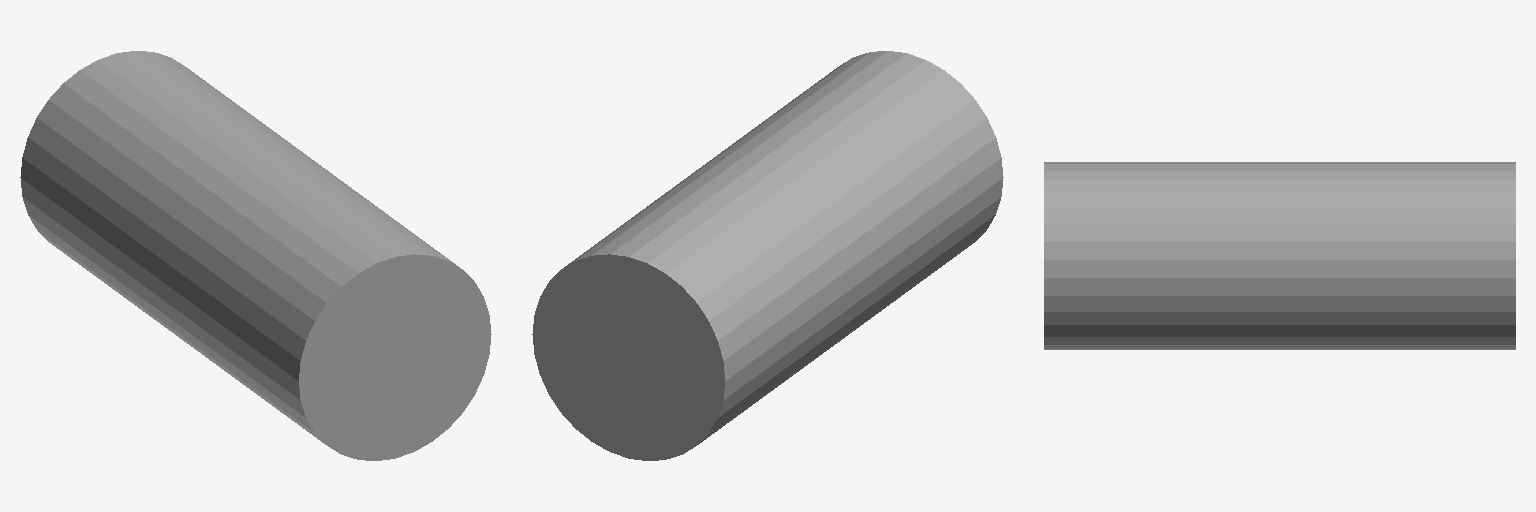
URDF robot description (ur5):
<?xml version="1.0" encoding="utf-8"?>
<!-- =================================================================================== -->
<!-- |    This document was autogenerated by xacro from ur5_robot_sensor_pos.urdf.xacro | -->
<!-- |    EDITING THIS FILE BY HAND IS NOT RECOMMENDED                                 | -->
<!-- =================================================================================== -->
<robot name="ur5">
  <gazebo>
    <plugin filename="libgazebo_ros_control.so" name="ros_control">
      <!--robotNamespace>/</robotNamespace-->
      <!--robotSimType>gazebo_ros_control/DefaultRobotHWSim</robotSimType-->
    </plugin>
    <!--
    <plugin name="gazebo_ros_power_monitor_controller" filename="libgazebo_ros_power_monitor.so">
      <alwaysOn>true</alwaysOn>
      <updateRate>1.0</updateRate>
      <timeout>5</timeout>
      <powerStateTopic>power_state</powerStateTopic>
      <powerStateRate>10.0</powerStateRate>
      <fullChargeCapacity>87.78</fullChargeCapacity>     
      <dischargeRate>-474</dischargeRate>
      <chargeRate>525</chargeRate>
      <dischargeVoltage>15.52</dischargeVoltage>
      <chargeVoltage>16.41</chargeVoltage>
    </plugin>
-->
  </gazebo>
  <!-- measured from model -->
  <link name="base_link">
    <visual>
      <origin rpy="0 0 3.14159265359" xyz="0 0 0"/>
      <geometry>
        <mesh filename="package://ur_description/meshes/ur5/visual/base.dae"/>
      </geometry>
      <material name="LightGrey">
        <color rgba="0.7 0.7 0.7 1.0"/>
      </material>
    </visual>
    <collision>
      <origin rpy="0 0 3.14159265359" xyz="0 0 0"/>
      <geometry>
        <mesh filename="package://ur_description/meshes/ur5/collision/base.stl"/>
      </geometry>
    </collision>
    <inertial>
      <mass value="4.0"/>
      <origin rpy="0 0 0" xyz="0.0 0.0 0.0"/>
      <inertia ixx="0.00443333156" ixy="0.0" ixz="0.0" iyy="0.00443333156" iyz="0.0" izz="0.0072"/>
    </inertial>
  </link>
  <joint name="shoulder_pan_joint" type="revolute">
    <parent link="base_link"/>
    <child link="shoulder_link"/>
    <origin rpy="0 0 3.14159265359" xyz="0 0 0.089159"/>
    <axis xyz="0 0 1"/>
    <limit effort="150.0" lower="-6.28318530718" upper="6.28318530718" velocity="3.15"/>
    <dynamics damping="0.0" friction="0.0"/>
  </joint>
  <link name="shoulder_link">
    <visual>
      <origin rpy="0 0 3.14159265359" xyz="0 0 0"/>
      <geometry>
        <mesh filename="package://ur_description/meshes/ur5/visual/shoulder.dae"/>
      </geometry>
      <material name="LightGrey">
        <color rgba="0.7 0.7 0.7 1.0"/>
      </material>
    </visual>
    <collision>
      <origin rpy="0 0 3.14159265359" xyz="0 0 0"/>
      <geometry>
        <mesh filename="package://ur_description/meshes/ur5/collision/shoulder.stl"/>
      </geometry>
    </collision>
    <inertial>
      <mass value="3.7"/>
      <origin rpy="0 0 0" xyz="0.0 0.0 0.0"/>
      <inertia ixx="0.0149723523444" ixy="0.0" ixz="0.0" iyy="0.0149723523444" iyz="0.0" izz="0.01040625"/>
    </inertial>
  </link>
  <joint name="shoulder_lift_joint" type="revolute">
    <parent link="shoulder_link"/>
    <child link="upper_arm_link"/>
    <origin rpy="1.570796327 0 0" xyz="0 0 0"/>
    <axis xyz="0 0 1"/>
    <limit effort="150.0" lower="-6.28318530718" upper="6.28318530718" velocity="3.15"/>
    <dynamics damping="0.0" friction="0.0"/>
  </joint>
  <link name="upper_arm_link">
    <visual>
      <origin rpy="1.57079632679 0 -1.57079632679" xyz="0 0 0.136"/>
      <geometry>
        <mesh filename="package://ur_description/meshes/ur5/visual/upperarm.dae"/>
      </geometry>
      <material name="LightGrey">
        <color rgba="0.7 0.7 0.7 1.0"/>
      </material>
    </visual>
    <collision>
      <origin rpy="1.57079632679 0 -1.57079632679" xyz="0 0 0.136"/>
      <geometry>
        <mesh filename="package://ur_description/meshes/ur5/collision/upperarm.stl"/>
      </geometry>
    </collision>
    <inertial>
      <mass value="8.393"/>
      <origin rpy="0 1.57079632679 0" xyz="-0.2125 0.0 0.136"/>
      <inertia ixx="0.133885781862" ixy="0.0" ixz="0.0" iyy="0.133885781862" iyz="0.0" izz="0.0151074"/>
    </inertial>
  </link>
  <joint name="elbow_joint" type="revolute">
    <parent link="upper_arm_link"/>
    <child link="forearm_link"/>
    <origin rpy="0 0 0" xyz="-0.425 0 0"/>
    <axis xyz="0 0 1"/>
    <limit effort="150.0" lower="-3.14159265359" upper="3.14159265359" velocity="3.15"/>
    <dynamics damping="0.0" friction="0.0"/>
  </joint>
  <link name="forearm_link">
    <visual>
      <origin rpy="1.57079632679 0 -1.57079632679" xyz="0 0 0.0165"/>
      <geometry>
        <mesh filename="package://ur_description/meshes/ur5/visual/forearm.dae"/>
      </geometry>
      <material name="LightGrey">
        <color rgba="0.7 0.7 0.7 1.0"/>
      </material>
    </visual>
    <collision>
      <origin rpy="1.57079632679 0 -1.57079632679" xyz="0 0 0.0165"/>
      <geometry>
        <mesh filename="package://ur_description/meshes/ur5/collision/forearm.stl"/>
      </geometry>
    </collision>
    <inertial>
      <mass value="2.275"/>
      <origin rpy="0 1.57079632679 0" xyz="-0.2125 0.0 0.0165"/>
      <inertia ixx="0.0312167910289" ixy="0.0" ixz="0.0" iyy="0.0312167910289" iyz="0.0" izz="0.004095"/>
    </inertial>
  </link>
  <joint name="wrist_1_joint" type="revolute">
    <parent link="forearm_link"/>
    <child link="wrist_1_link"/>
    <origin rpy="0 0 0" xyz="-0.39225 0 0.10915"/>
    <axis xyz="0 0 1"/>
    <limit effort="28.0" lower="-6.28318530718" upper="6.28318530718" velocity="3.2"/>
    <dynamics damping="0.0" friction="0.0"/>
  </joint>
  <link name="wrist_1_link">
    <visual>
      <origin rpy="1.57079632679 0 0" xyz="0 0 -0.093"/>
      <geometry>
        <mesh filename="package://ur_description/meshes/ur5/visual/wrist1.dae"/>
      </geometry>
      <material name="LightGrey">
        <color rgba="0.7 0.7 0.7 1.0"/>
      </material>
    </visual>
    <collision>
      <origin rpy="1.57079632679 0 0" xyz="0 0 -0.093"/>
      <geometry>
        <mesh filename="package://ur_description/meshes/ur5/collision/wrist1.stl"/>
      </geometry>
    </collision>
    <inertial>
      <mass value="1.219"/>
      <origin rpy="0 0 0" xyz="0.0 0.0 0.0"/>
      <inertia ixx="0.00262426443592" ixy="0.0" ixz="0.0" iyy="0.00262426443592" iyz="0.0" izz="0.0034284375"/>
    </inertial>
  </link>
  <joint name="wrist_2_joint" type="revolute">
    <parent link="wrist_1_link"/>
    <child link="wrist_2_link"/>
    <origin rpy="1.570796327 0 0" xyz="0 -0.09465 -1.9413039509e-11"/>
    <axis xyz="0 0 1"/>
    <limit effort="28.0" lower="-6.28318530718" upper="6.28318530718" velocity="3.2"/>
    <dynamics damping="0.0" friction="0.0"/>
  </joint>
  <link name="wrist_2_link">
    <visual>
      <origin rpy="0 0 0" xyz="0 0 -0.095"/>
      <geometry>
        <mesh filename="package://ur_description/meshes/ur5/visual/wrist2.dae"/>
      </geometry>
      <material name="LightGrey">
        <color rgba="0.7 0.7 0.7 1.0"/>
      </material>
    </visual>
    <collision>
      <origin rpy="0 0 0" xyz="0 0 -0.095"/>
      <geometry>
        <mesh filename="package://ur_description/meshes/ur5/collision/wrist2.stl"/>
      </geometry>
    </collision>
    <inertial>
      <mass value="1.219"/>
      <origin rpy="0 0 0" xyz="0.0 0.0 0.0"/>
      <inertia ixx="0.00178515266177" ixy="0.0" ixz="0.0" iyy="0.00178515266177" iyz="0.0" izz="0.0021942"/>
    </inertial>
  </link>
  <joint name="wrist_3_joint" type="revolute">
    <parent link="wrist_2_link"/>
    <child link="wrist_3_link"/>
    <origin rpy="1.57079632659 3.14159265359 3.14159265359" xyz="0 0.0823 -1.68800121668e-11"/>
    <axis xyz="0 0 1"/>
    <limit effort="28.0" lower="-6.28318530718" upper="6.28318530718" velocity="3.2"/>
    <dynamics damping="0.0" friction="0.0"/>
  </joint>
  <link name="wrist_3_link">
    <visual>
      <origin rpy="1.57079632679 0 0" xyz="0 0 -0.0818"/>
      <geometry>
        <mesh filename="package://ur_description/meshes/ur5/visual/wrist3.dae"/>
      </geometry>
      <material name="LightGrey">
        <color rgba="0.7 0.7 0.7 1.0"/>
      </material>
    </visual>
    <collision>
      <origin rpy="1.57079632679 0 0" xyz="0 0 -0.0823"/>
      <geometry>
        <mesh filename="package://ur_description/meshes/ur5/collision/wrist3.stl"/>
      </geometry>
    </collision>
    <inertial>
      <mass value="0.1879"/>
      <origin rpy="0 0 0" xyz="0.0 0.0 -0.01525"/>
      <inertia ixx="8.06247260834e-05" ixy="0.0" ixz="0.0" iyy="8.06247260834e-05" iyz="0.0" izz="0.0001321171875"/>
    </inertial>
  </link>
  <joint name="ee_fixed_joint" type="fixed">
    <parent link="wrist_3_link"/>
    <child link="ee_link"/>
    <origin rpy="0.0 -1.57079632679 1.57079632679" xyz="0.0 0.0 0.0"/>
  </joint>
  <link name="ee_link">
    <collision>
      <geometry>
        <box size="0.01 0.01 0.01"/>
      </geometry>
      <origin rpy="0 0 0" xyz="-0.01 0 0"/>
    </collision>
  </link>
  <joint name="wrist_3_passive_joint" type="fixed">
    <origin rpy="0 0 0" xyz="0 0 0"/>
    <parent link="wrist_3_link"/>
    <child link="tool0"/>
  </joint>
  <transmission name="shoulder_pan_trans">
    <type>transmission_interface/SimpleTransmission</type>
    <joint name="shoulder_pan_joint">
      <hardwareInterface>hardware_interface/PositionJointInterface</hardwareInterface>
    </joint>
    <actuator name="shoulder_pan_motor">
      <mechanicalReduction>1</mechanicalReduction>
    </actuator>
  </transmission>
  <transmission name="shoulder_lift_trans">
    <type>transmission_interface/SimpleTransmission</type>
    <joint name="shoulder_lift_joint">
      <hardwareInterface>hardware_interface/PositionJointInterface</hardwareInterface>
    </joint>
    <actuator name="shoulder_lift_motor">
      <mechanicalReduction>1</mechanicalReduction>
    </actuator>
  </transmission>
  <transmission name="elbow_trans">
    <type>transmission_interface/SimpleTransmission</type>
    <joint name="elbow_joint">
      <hardwareInterface>hardware_interface/PositionJointInterface</hardwareInterface>
    </joint>
    <actuator name="elbow_motor">
      <mechanicalReduction>1</mechanicalReduction>
    </actuator>
  </transmission>
  <transmission name="wrist_1_trans">
    <type>transmission_interface/SimpleTransmission</type>
    <joint name="wrist_1_joint">
      <hardwareInterface>hardware_interface/PositionJointInterface</hardwareInterface>
    </joint>
    <actuator name="wrist_1_motor">
      <mechanicalReduction>1</mechanicalReduction>
    </actuator>
  </transmission>
  <transmission name="wrist_2_trans">
    <type>transmission_interface/SimpleTransmission</type>
    <joint name="wrist_2_joint">
      <hardwareInterface>hardware_interface/PositionJointInterface</hardwareInterface>
    </joint>
    <actuator name="wrist_2_motor">
      <mechanicalReduction>1</mechanicalReduction>
    </actuator>
  </transmission>
  <transmission name="wrist_3_trans">
    <type>transmission_interface/SimpleTransmission</type>
    <joint name="wrist_3_joint">
      <hardwareInterface>hardware_interface/PositionJointInterface</hardwareInterface>
    </joint>
    <actuator name="wrist_3_motor">
      <mechanicalReduction>1</mechanicalReduction>
    </actuator>
  </transmission>
  <gazebo reference="shoulder_link">
    <selfCollide>true</selfCollide>
  </gazebo>
  <gazebo reference="upper_arm_link">
    <selfCollide>true</selfCollide>
  </gazebo>
  <gazebo reference="forearm_link">
    <selfCollide>true</selfCollide>
  </gazebo>
  <gazebo reference="wrist_1_link">
    <selfCollide>true</selfCollide>
  </gazebo>
  <gazebo reference="wrist_3_link">
    <selfCollide>true</selfCollide>
  </gazebo>
  <gazebo reference="wrist_2_link">
    <selfCollide>true</selfCollide>
  </gazebo>
  <gazebo reference="ee_link">
    <selfCollide>true</selfCollide>
  </gazebo>
  <!-- ROS base_link to UR 'Base' Coordinates transform -->
  <link name="base"/>
  <joint name="base_link-base_fixed_joint" type="fixed">
    <!-- NOTE: this rotation is only needed as long as base_link itself is
                 not corrected wrt the real robot (ie: rotated over 180
                 degrees)
      -->
    <origin rpy="0 0 -3.14159265359" xyz="0 0 0"/>
    <parent link="base_link"/>
    <child link="base"/>
  </joint>
  <!-- Frame coincident with all-zeros TCP on UR controller -->
  <link name="tool0"/>
  <!--box size="0.01 0.05 0.04"/-->
  <!--cylinder length="0.02" radius="0.04"/-->
  <link name="FT_link">
    <inertial>
      <mass value="0.15"/>
      <origin rpy="0 0 0" xyz="0.0 0.0 -0.1"/>
      <inertia ixx="0.01" ixy="0.0" ixz="0.0" iyy="0.01" iyz="0.0" izz="0.01"/>
    </inertial>
    <visual>
      <geometry>
        <cylinder length="0.05" radius="0.01"/>
      </geometry>
      <material name="white">
        <color rgba="0.7 0.7 0.7 1.0"/>
      </material>
    </visual>
    <collision>
      <geometry>
        <cylinder length="0.05" radius="0.0095"/>
      </geometry>
    </collision>
  </link>
  <joint name="FT_joint" type="fixed">
    <parent link="wrist_3_link"/>
    <child link="FT_link"/>
    <origin rpy="0 0 0.0" xyz="0.0 0.0 0.025"/>
  </joint>
  <link name="world"/>
  <joint name="world_joint" type="fixed">
    <parent link="world"/>
    <child link="base_link"/>
    <origin rpy="0.0 0.0 0.0" xyz="0.0 0.0 0.0"/>
  </joint>
</robot>

--- Facts derived from the render (not from the file) ---
The picture shows the robot from 3 angles, left to right: view 1: azimuth 30°, elevation 25°; view 2: azimuth 150°, elevation 25°; view 3: azimuth 270°, elevation 25°; orthographic projection.
Robot: ur5 — 12 links, 11 joints (6 revolute, 5 fixed); root link world; default pose: all joints at 0.
Visible links, largest first — view 1: FT_link; view 2: FT_link; view 3: FT_link.
Link boxes in pixels (x1,y1,x2,y2): FT_link: (20,51,491,460); FT_link: (532,51,1003,460); FT_link: (1044,162,1515,349).
Bounding box of the posed robot: 0.02 × 0.05 × 0.02 m (x, y, z).
Meshes: 7 distinct files referenced, 0 mesh visuals loaded (none loaded); not drawn: 7 (reference not matched to a file when rendering).